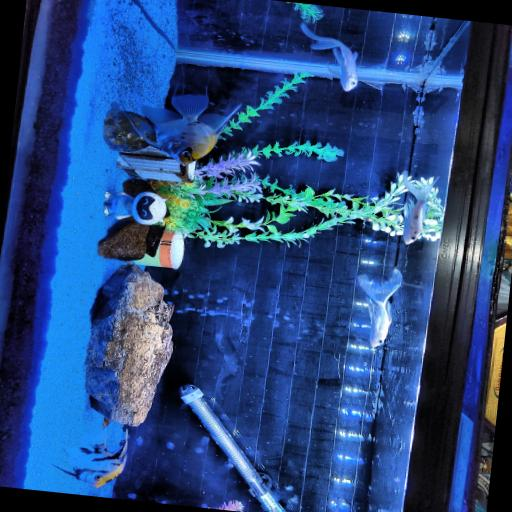Fish: (127, 95, 239, 165), (54, 430, 127, 487), (300, 24, 357, 91), (357, 269, 401, 347), (403, 178, 436, 244)
